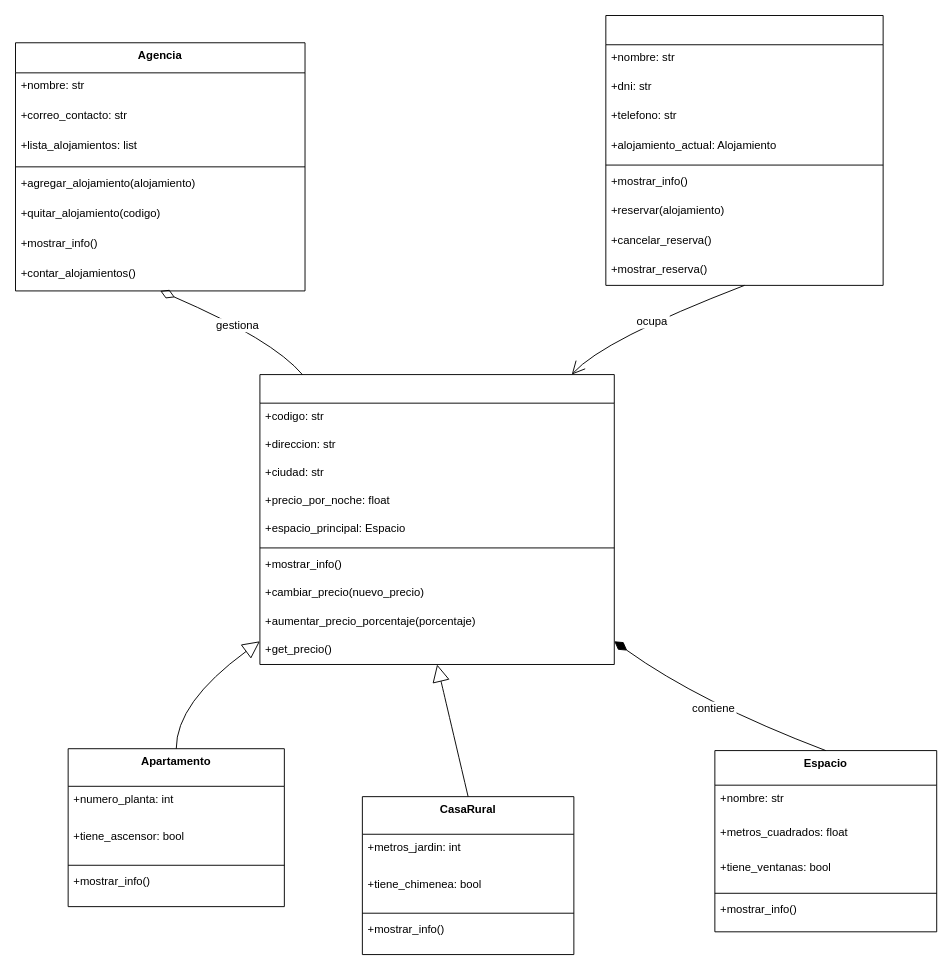
This 952x970 diagram has some shape labels left out. The box of each missing label's shape, as (x1, y1, x2, y2) in pixels:
Alojamiento: (259, 374, 614, 664)
Cliente: (605, 15, 883, 285)
